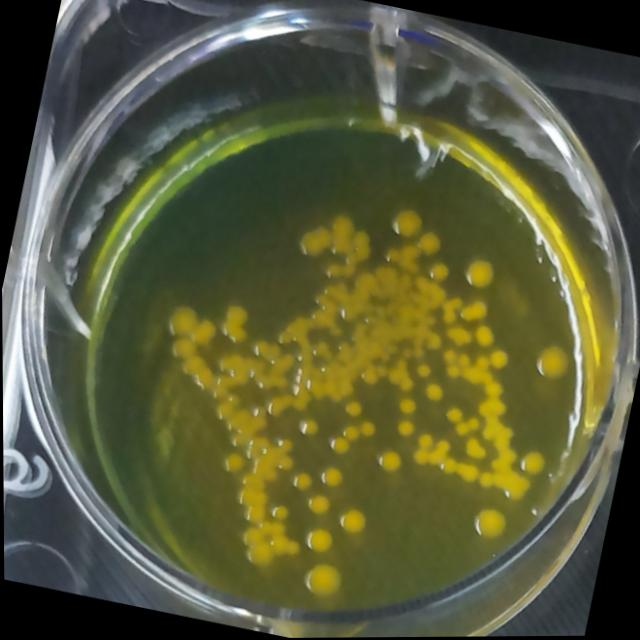vibrio: (291, 553, 353, 607), (463, 498, 514, 550), (529, 338, 574, 385), (215, 301, 254, 346), (386, 203, 428, 242), (296, 221, 336, 261), (459, 253, 498, 292), (162, 301, 201, 339), (241, 534, 279, 573), (333, 504, 370, 538), (302, 523, 335, 557), (414, 227, 445, 259), (516, 446, 547, 477), (458, 296, 491, 325), (167, 332, 197, 362), (374, 445, 404, 474), (190, 317, 219, 347), (316, 462, 346, 490), (293, 414, 322, 442), (303, 489, 332, 516), (238, 523, 267, 550), (287, 468, 315, 495), (461, 435, 489, 462), (220, 449, 246, 475), (325, 432, 351, 457), (420, 379, 446, 404), (424, 259, 450, 283), (472, 322, 496, 347), (486, 348, 510, 372), (358, 361, 381, 386), (211, 399, 235, 422), (393, 416, 418, 438), (437, 455, 460, 478), (356, 418, 379, 440), (341, 397, 363, 419), (395, 395, 418, 416), (442, 403, 465, 424), (281, 536, 302, 559), (339, 422, 361, 443), (414, 429, 435, 451), (409, 446, 430, 467), (250, 337, 270, 359), (475, 469, 495, 490), (269, 502, 290, 521), (451, 419, 471, 437), (464, 413, 481, 432), (414, 362, 433, 379)
